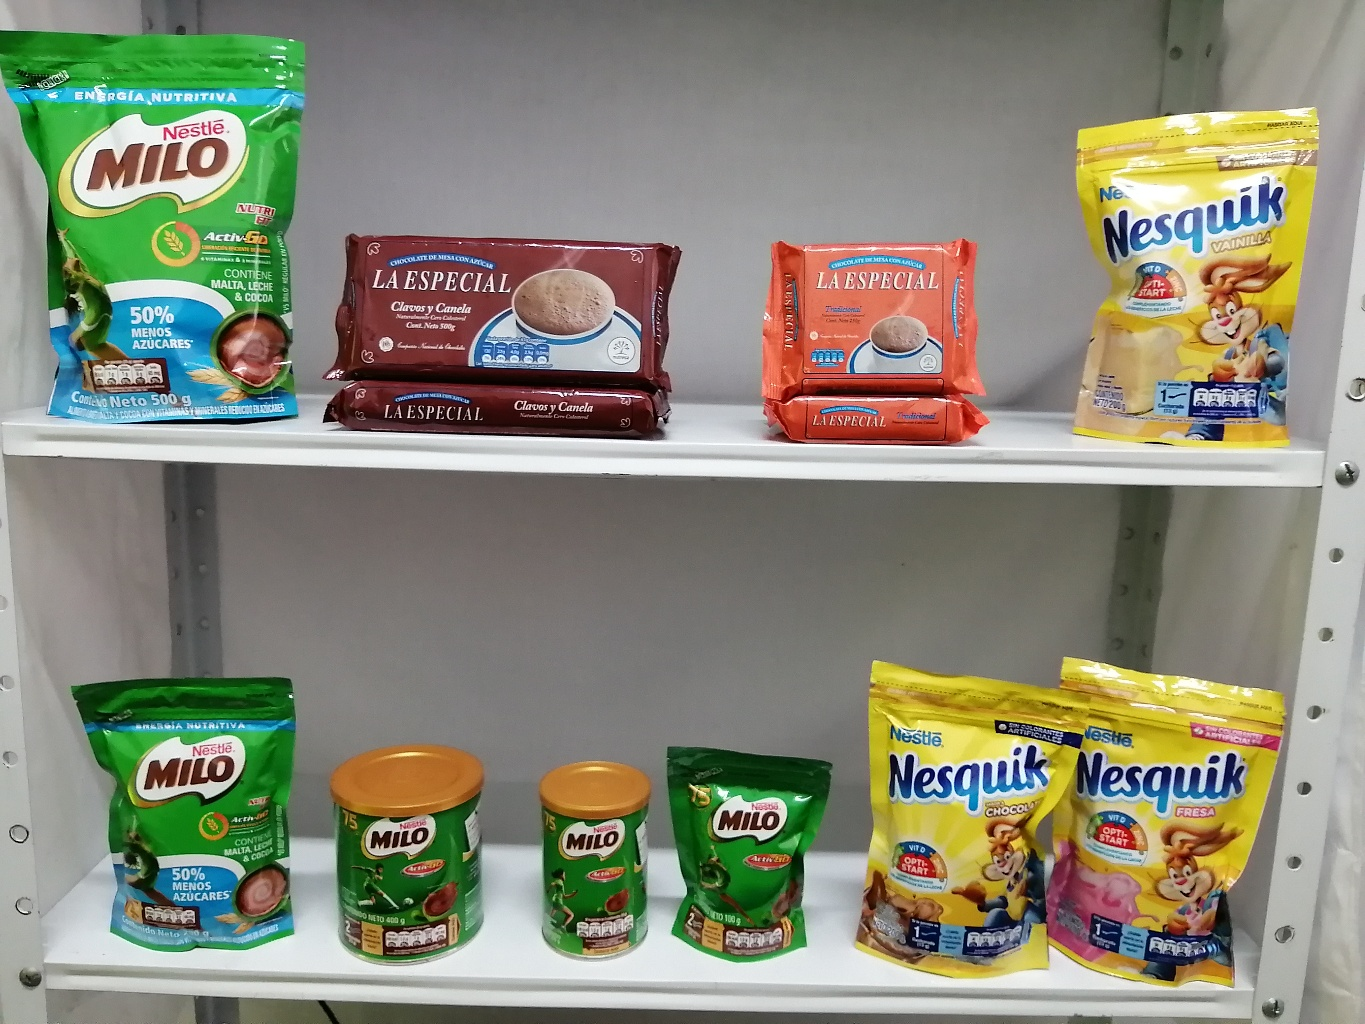COL0170203DYP10000: (654, 727, 841, 967)
COL0170203LAT20000: (525, 748, 666, 967)
COL0170203LAT40000: (319, 733, 498, 962)
COL0170205DYP20000: (58, 667, 312, 957)
COL0170205DYP50000: (1, 17, 319, 429)
COL0170303DYP20000: (848, 642, 1093, 984)
COL0170305DYP20000: (1053, 632, 1296, 1002)
COL0170306DYP20000: (1057, 102, 1326, 469)
